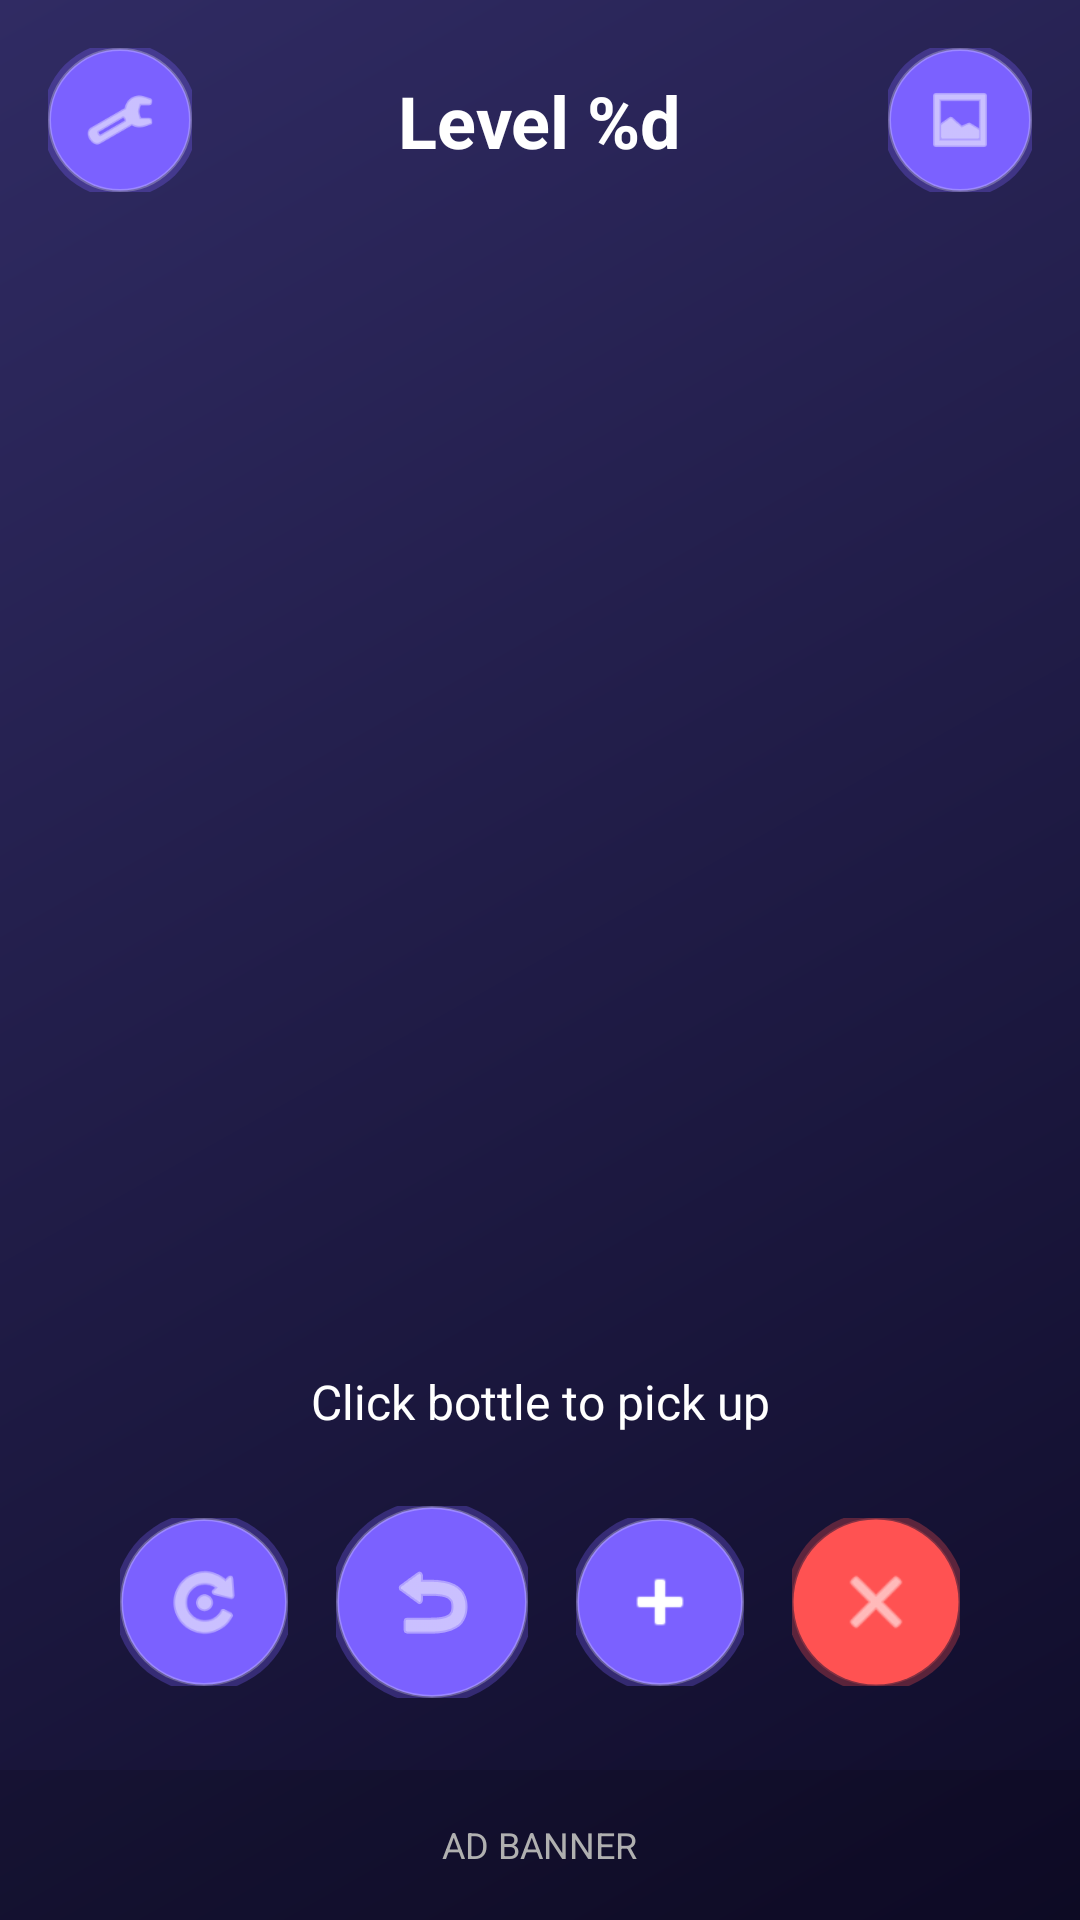

Where icons sit on this 1080x1920 app screen, as {"left": x1, "top": y1, "right": x2, "bottom": y2}:
Add Bottle: {"left": 576, "top": 1518, "right": 744, "bottom": 1686}
Quit: {"left": 792, "top": 1518, "right": 960, "bottom": 1686}
Restart: {"left": 120, "top": 1518, "right": 288, "bottom": 1686}
Settings: {"left": 48, "top": 48, "right": 192, "bottom": 192}
Themes: {"left": 888, "top": 48, "right": 1032, "bottom": 192}
Undo: {"left": 336, "top": 1506, "right": 528, "bottom": 1698}
